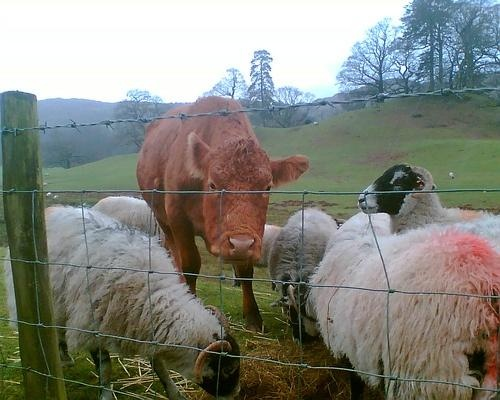cow: (135, 97, 310, 334)
sheep: (11, 207, 242, 400), (312, 229, 500, 400), (358, 163, 500, 262), (273, 208, 342, 346)
